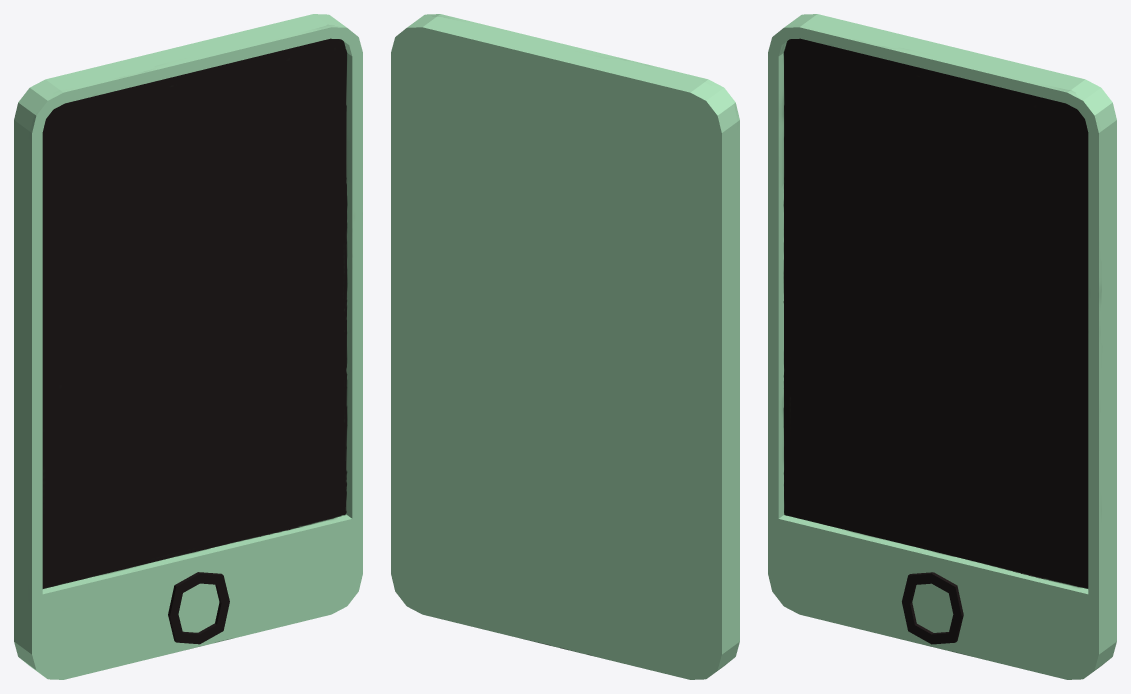
File: Phone_main.fbx
3 views of the same model, side by side, from view 1: azimuth 30°, elevation 25°; view 2: azimuth 150°, elevation 25°; view 3: azimuth 330°, elevation 25° (orthographic).
Visible parts, largest first — view 1: Phone_Low; view 2: Phone_Low; view 3: Phone_Low.
Part boxes in pixels (left/top/right/bottom): Phone_Low: left=14, top=14, right=362, bottom=679; Phone_Low: left=391, top=14, right=739, bottom=679; Phone_Low: left=768, top=14, right=1116, bottom=679.
Bounding box in the file's own units: 30.87 × 52.37 × 3.26.
1 material, 1 textured.
